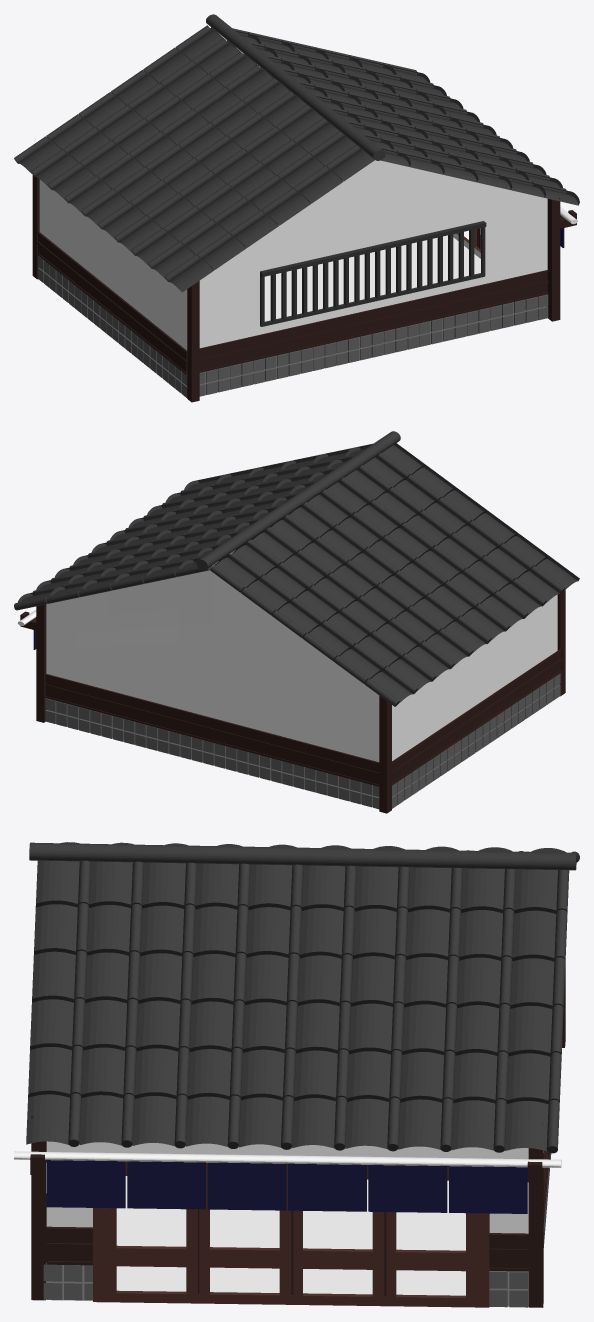
The model's file is build4.glb.
3 renders of one model, top to bottom at view 1: azimuth 30°, elevation 25°; view 2: azimuth 150°, elevation 25°; view 3: azimuth 270°, elevation 25°, orthographic. The views are drawn at different scales.
Parts seen in each view (by area): view 1: 円柱, 立方体.019, 立方体, 立方体.007, 立方体.008, 立方体.002, 立方体.003, 立方体.006, 円柱.001; view 2: 円柱, 立方体.019, 立方体.001, 立方体.007, 立方体.003, 立方体.006, 立方体.002, 円柱.001; view 3: 円柱, 立方体.019, 立方体.004, 円柱.001, 立方体.002, 円柱.002, 立方体.006.
Boxes of the visible parts, x1,y1,x2,y2 form: 円柱: [14, 25, 579, 292]; 立方体.019: [39, 33, 547, 394]; 立方体: [199, 270, 548, 372]; 立方体.007: [199, 294, 548, 396]; 立方体.008: [270, 229, 474, 321]; 立方体.002: [32, 175, 576, 402]; 立方体.003: [37, 231, 187, 374]; 立方体.006: [38, 256, 187, 397]; 円柱.001: [206, 14, 385, 160]; 円柱: [14, 443, 579, 706]; 立方体.019: [46, 541, 557, 796]; 立方体.001: [45, 674, 379, 786]; 立方体.007: [45, 698, 379, 809]; 立方体.003: [392, 649, 562, 785]; 立方体.006: [392, 673, 560, 808]; 立方体.002: [20, 590, 565, 813]; 円柱.001: [196, 431, 400, 569]; 円柱: [26, 842, 579, 1153]; 立方体.019: [46, 1141, 543, 1307]; 立方体.004: [46, 1160, 527, 1213]; 円柱.001: [29, 842, 576, 870]; 立方体.002: [30, 964, 565, 1307]; 円柱.002: [14, 1151, 561, 1167]; 立方体.006: [43, 1263, 527, 1307].
Size of what is drawn, in the model's own units: 1.56 by 0.7888 by 1.25.
